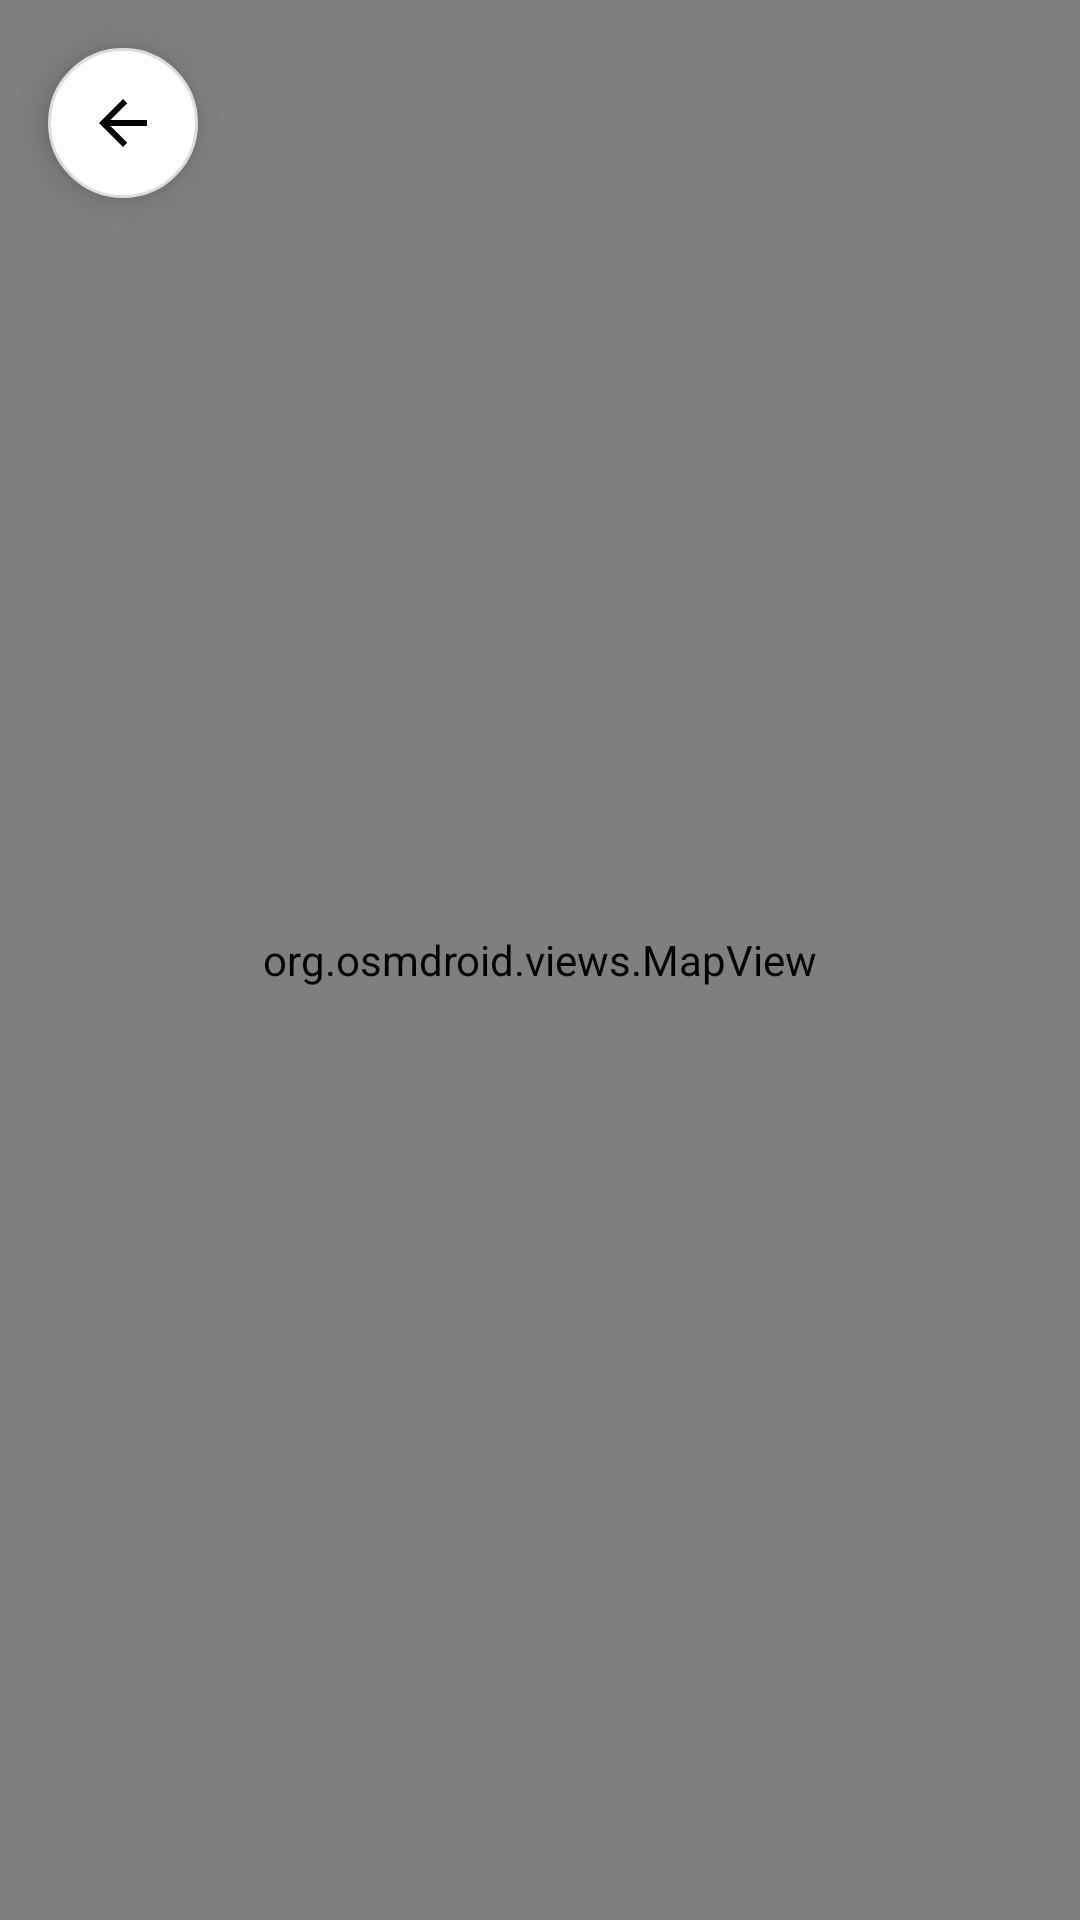

Named icons in this screenshot (1080×1920) and their centers, point (x, y):
back arrow: point (123, 123)
